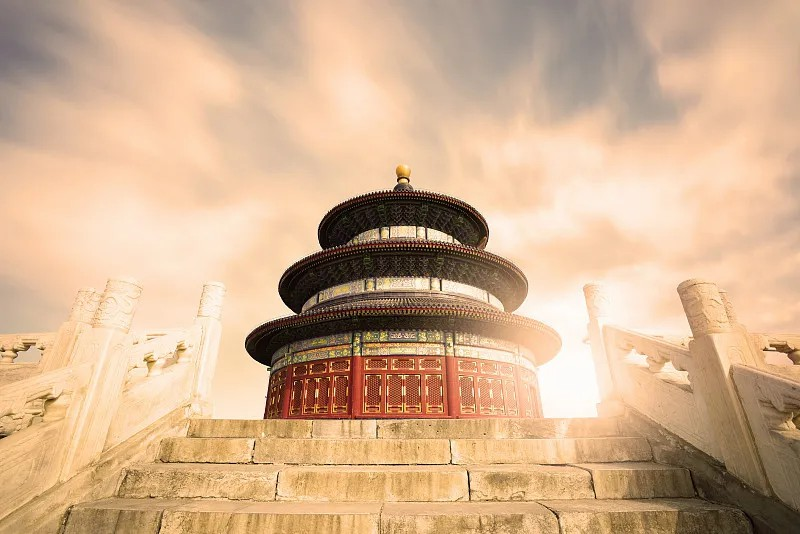Heaven: (242, 162, 568, 419)
